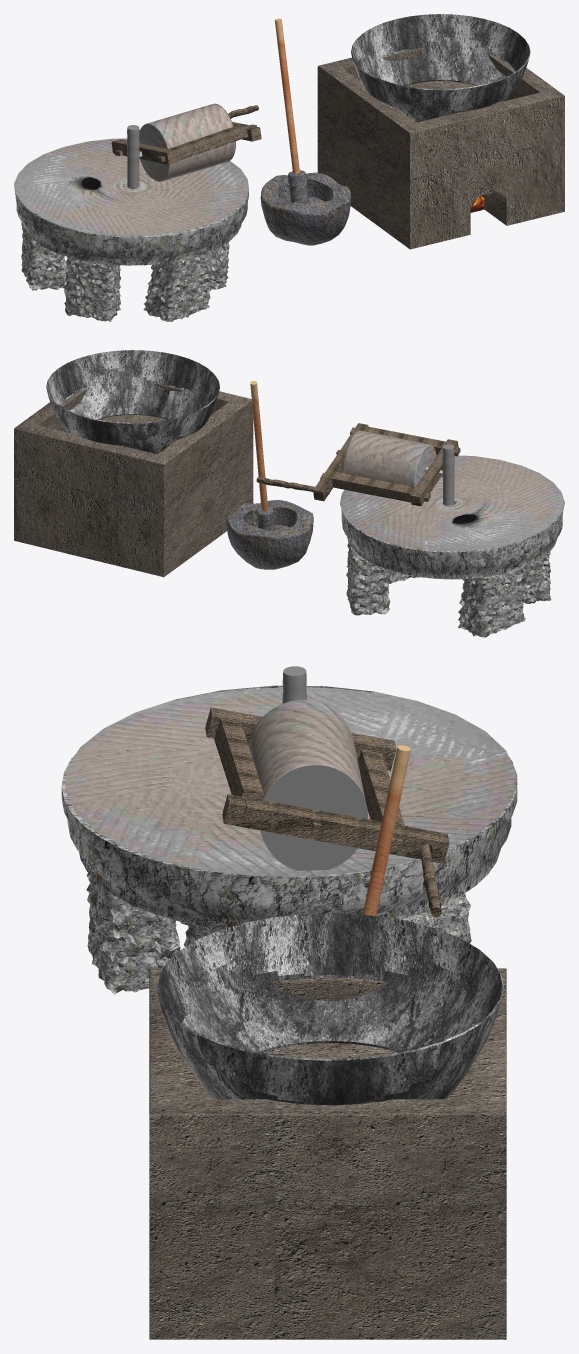
3 renders of one model, top to bottom at view 1: azimuth 30°, elevation 25°; view 2: azimuth 150°, elevation 25°; view 3: azimuth 270°, elevation 25°, orthographic. The views are drawn at different scales.
Parts seen in each view (by area): view 1: nongju_85, nongju_104, nongju_94; view 2: nongju_85, nongju_104, nongju_94; view 3: nongju_85, nongju_104, nongju_94.
Part boxes in pixels (bbox=[...]): nongju_85: bbox=[317, 14, 564, 249]; nongju_104: bbox=[14, 103, 261, 321]; nongju_94: bbox=[260, 18, 351, 245]; nongju_85: bbox=[14, 350, 253, 577]; nongju_104: bbox=[256, 423, 564, 637]; nongju_94: bbox=[226, 381, 313, 569]; nongju_85: bbox=[149, 913, 506, 1339]; nongju_104: bbox=[61, 666, 517, 994]; nongju_94: bbox=[362, 745, 410, 915].
Bounding box in the file's own units: 226 × 90.29 × 92.55.
